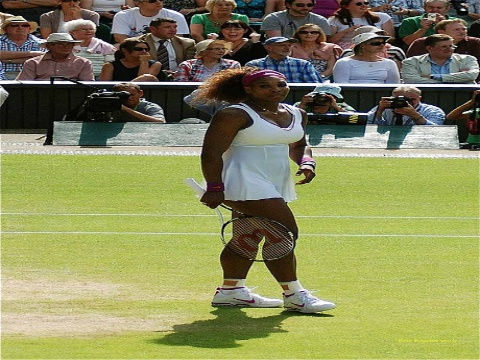hand: (199, 189, 226, 209), (295, 166, 316, 186)
